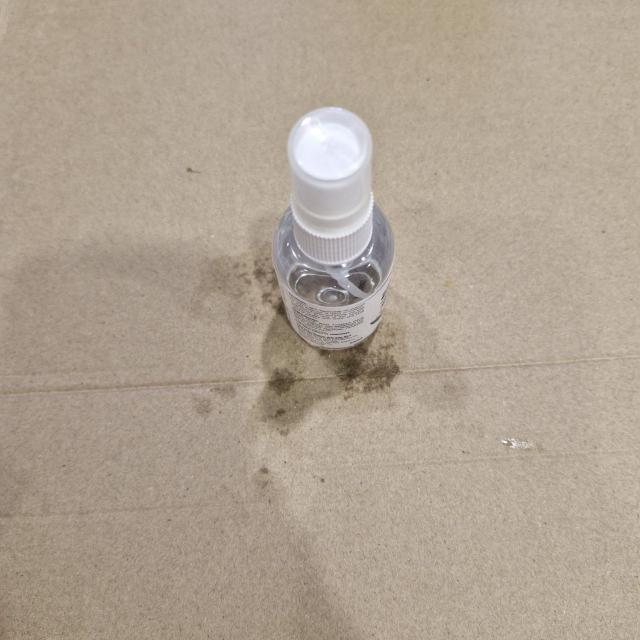plastic: (256, 103, 408, 361)
